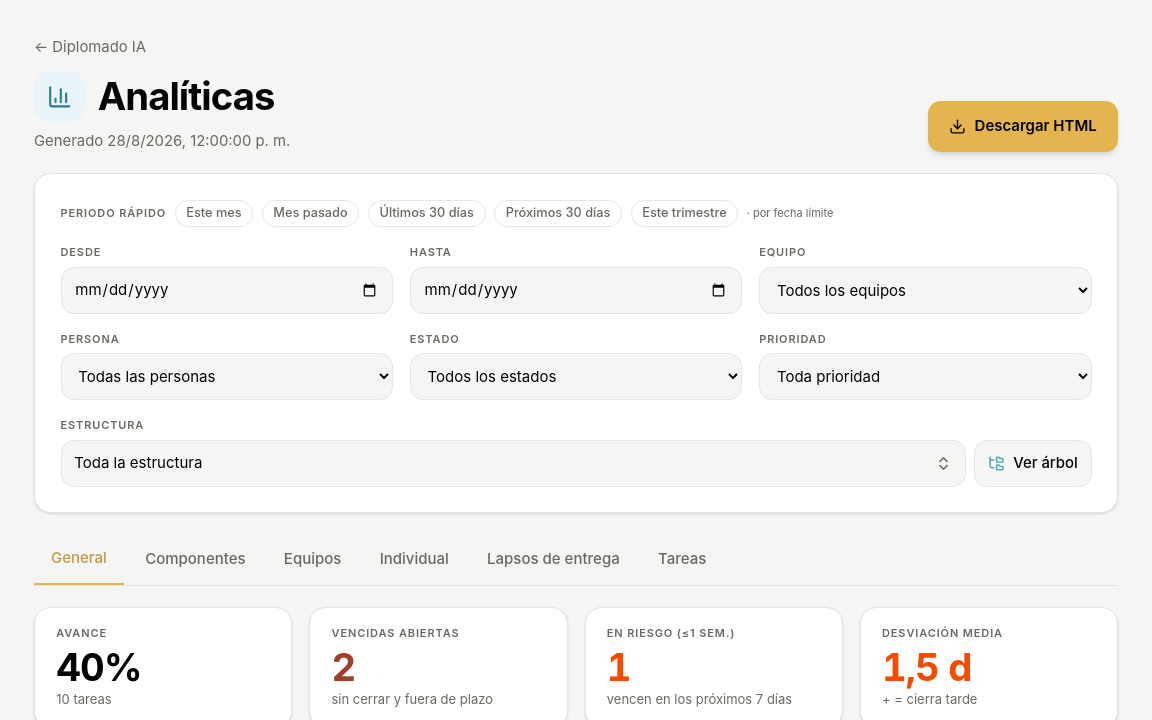
Test: ProjectReportPage (analítica) › cambia de pestaña a Equipos y muestra su tabla
The width and height of the screenshot is (1152, 720).
Click the tab "Equipos".
click(313, 560)  # box [267,535,358,585]
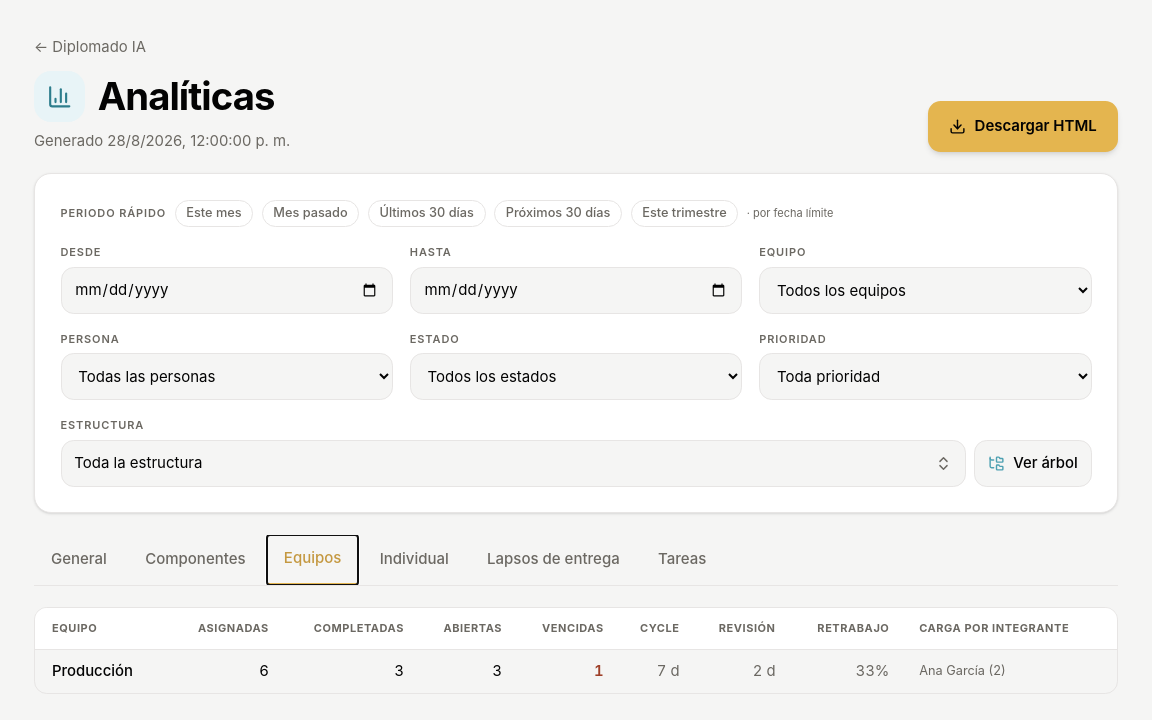
Now the text "Producción" is shown, box [35,650,169,693]
Now the column heading "Carga por integrante" is shown, box [902,608,1117,650]
